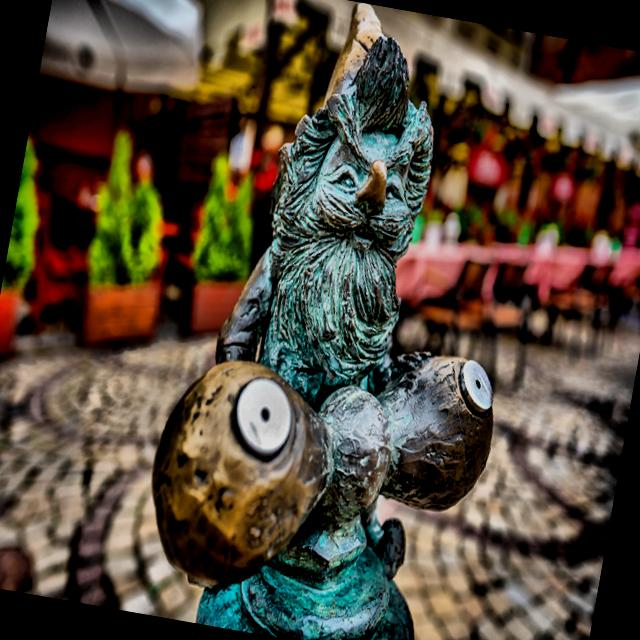Orzezwiacz: (150, 1, 493, 640)
